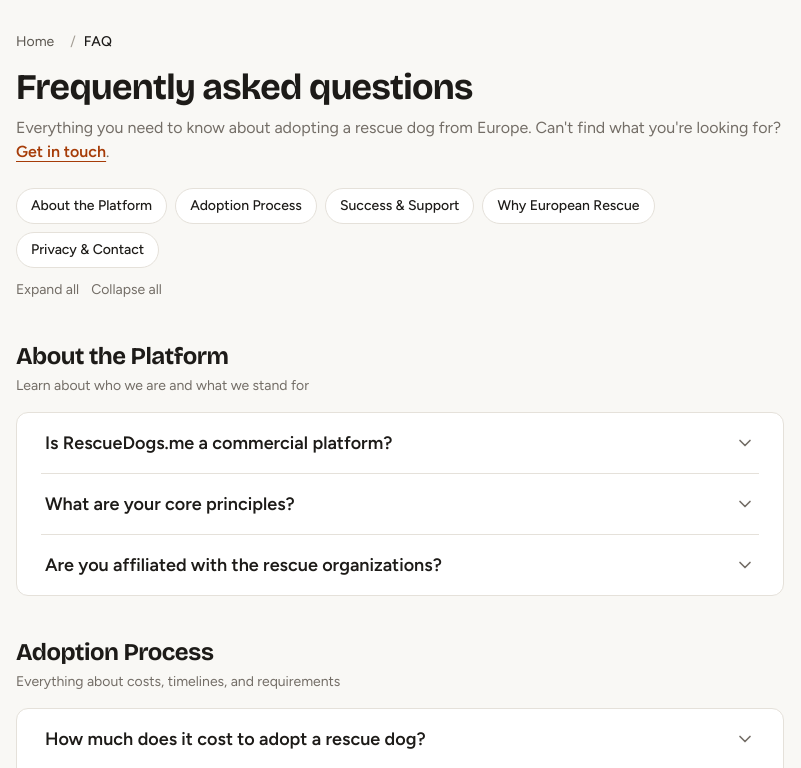
Test case: FAQ Page › Accordion Functionality › expand all button expands all FAQ items
Click the button "Expand all": point(48, 290) [16,280,79,300]
(page scrolled)
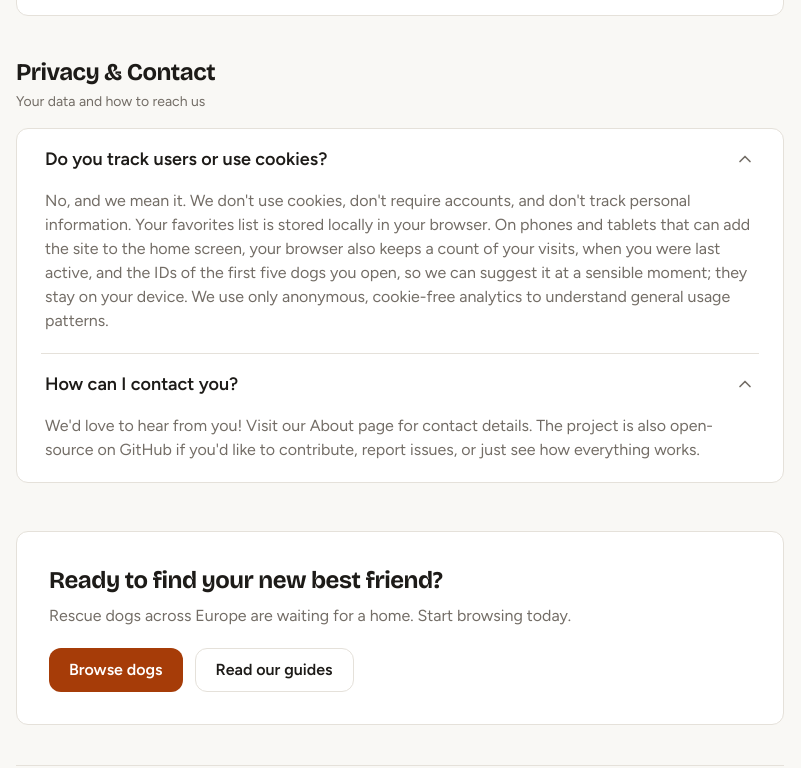
Check: the button "Do you track users or use cookies?" is expanded, box [41,129,759,189]
Check: the button "How can I contact you?" is expanded, box [41,354,759,414]
